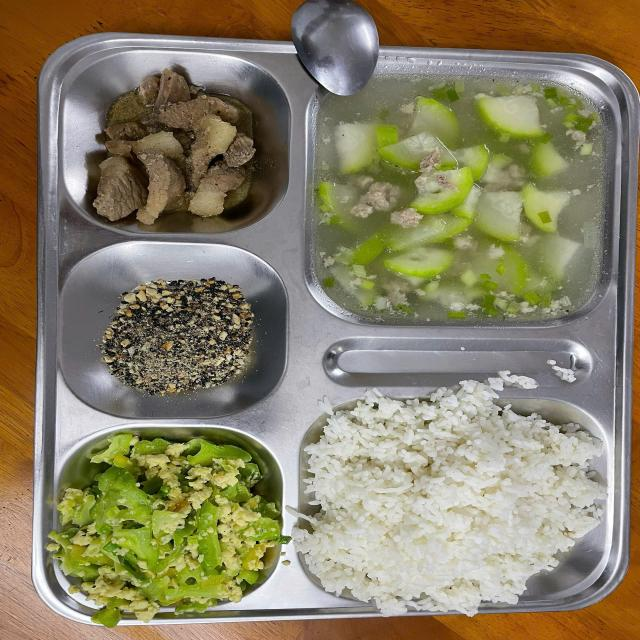canhbau: (332, 86, 596, 315)
salad: (308, 407, 596, 601)
thitkhogung: (87, 68, 275, 224)
vung: (48, 438, 286, 613)
